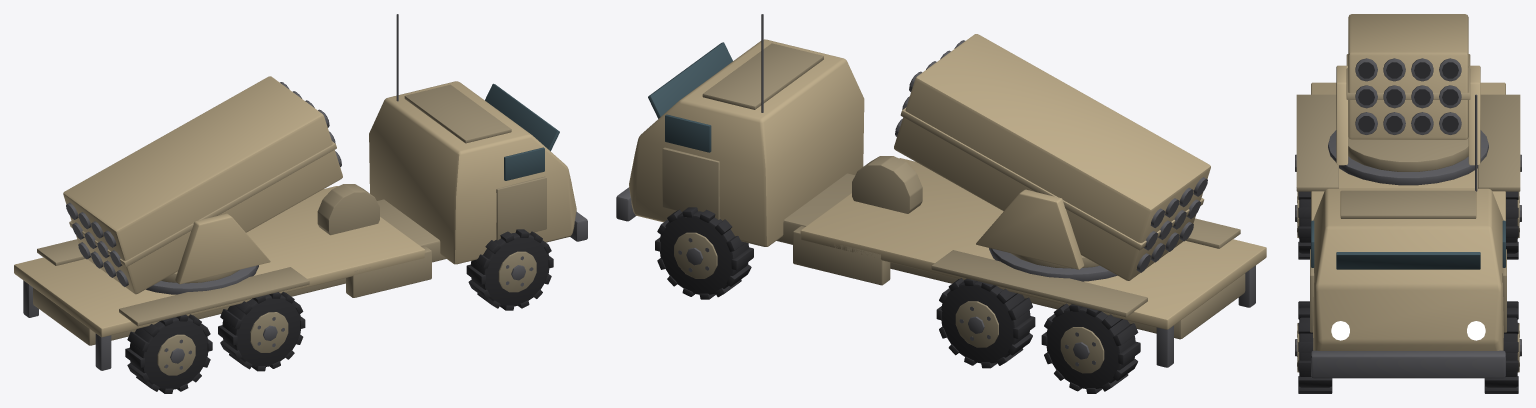
The model's file is rocket.glb.
3 views of the same model, side by side, from view 1: azimuth 30°, elevation 25°; view 2: azimuth 150°, elevation 25°; view 3: azimuth 270°, elevation 25° (orthographic). The views are drawn at different scales.
Visible parts, largest first — view 1: hull, barrel, wheel_R2, wheel_R3, wheel_R1, turret; view 2: hull, barrel, wheel_L2, wheel_L3, wheel_L1, turret; view 3: hull, barrel, turret, wheel_L1, wheel_R1, wheel_L2, wheel_R2.
Part boxes in pixels (box(x1,y1,x2,y2)): hull: box(14, 14, 587, 370); barrel: box(63, 76, 342, 294); wheel_R2: box(218, 291, 305, 371); wheel_R3: box(125, 314, 212, 393); wheel_R1: box(466, 229, 553, 310); turret: box(161, 213, 270, 284); hull: box(616, 14, 1266, 367); barrel: box(894, 34, 1210, 280); wheel_L2: box(936, 278, 1035, 368); wheel_L3: box(1041, 303, 1140, 393); wheel_L1: box(655, 207, 753, 299); turret: box(976, 189, 1099, 269); hull: box(1296, 82, 1520, 378); barrel: box(1346, 14, 1470, 139); turret: box(1336, 65, 1480, 171); wheel_L1: box(1484, 301, 1521, 393); wheel_R1: box(1295, 301, 1332, 393); wheel_L2: box(1506, 191, 1521, 259); wheel_R2: box(1295, 191, 1310, 259).
Bounding box in the file's own units: 7.36 × 3.56 × 2.68.
